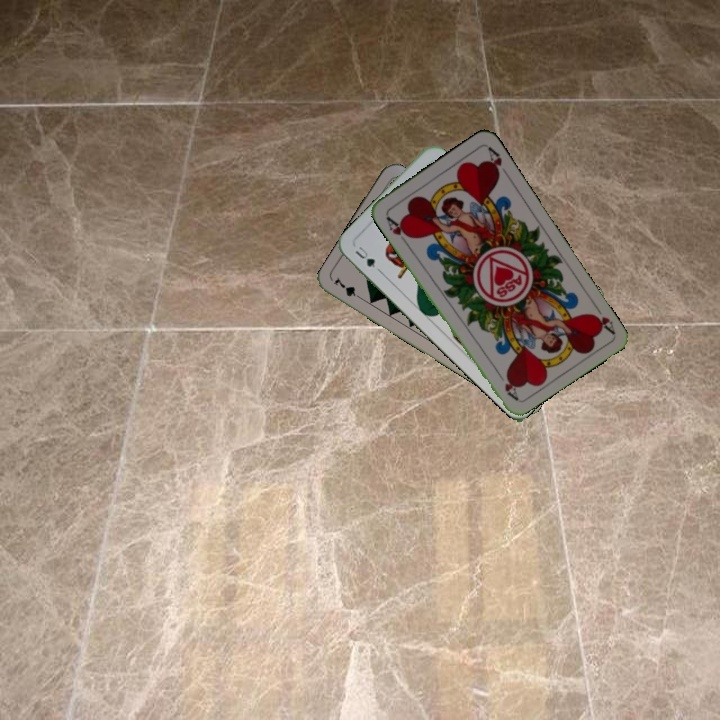G7: (330, 273, 366, 303)
GU: (351, 242, 383, 274)
HA: (382, 212, 414, 247), (587, 299, 617, 336)
